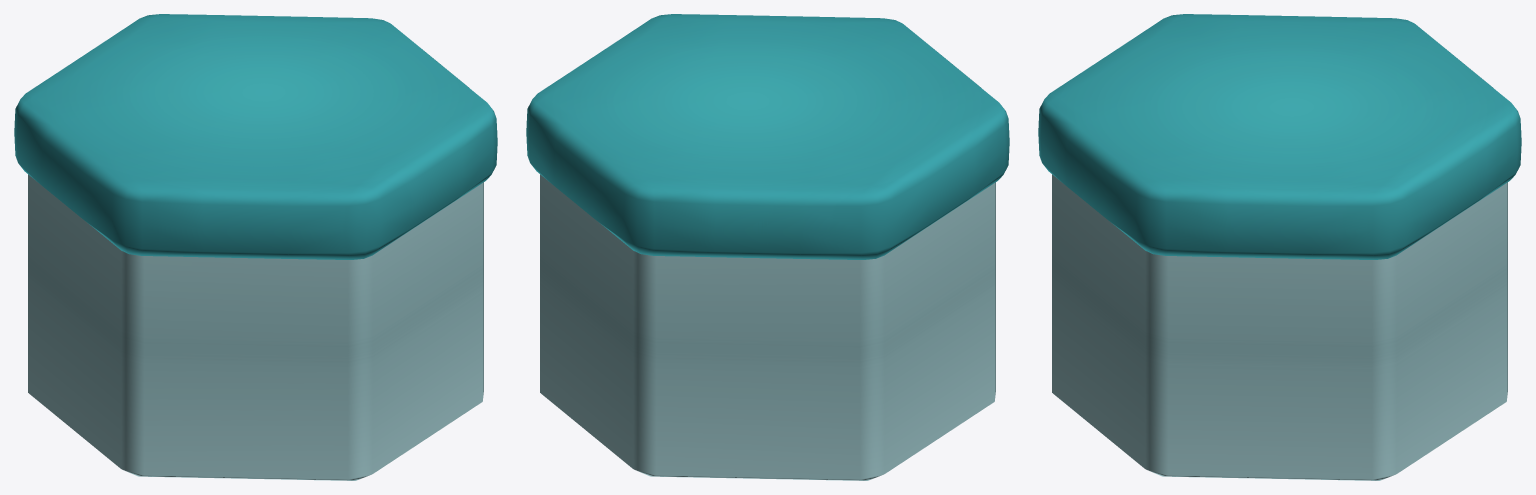
Rendered from tile mateo2.fbx.
3 views of the same model, side by side, from view 1: azimuth 30°, elevation 25°; view 2: azimuth 150°, elevation 25°; view 3: azimuth 270°, elevation 25° (orthographic).
Visible parts, largest first — view 1: Cylinder.136, Cylinder.135; view 2: Cylinder.136, Cylinder.135; view 3: Cylinder.136, Cylinder.135.
Part boxes in pixels (x1,y1,x2,y2): Cylinder.136: (28,174,483,480); Cylinder.135: (14,14,497,259); Cylinder.136: (540,174,995,480); Cylinder.135: (526,14,1009,259); Cylinder.136: (1052,174,1507,480); Cylinder.135: (1038,14,1521,259).
Bounding box in the file's own units: 171 × 128 × 187.
Materials: 1 (1 with a texture image).
